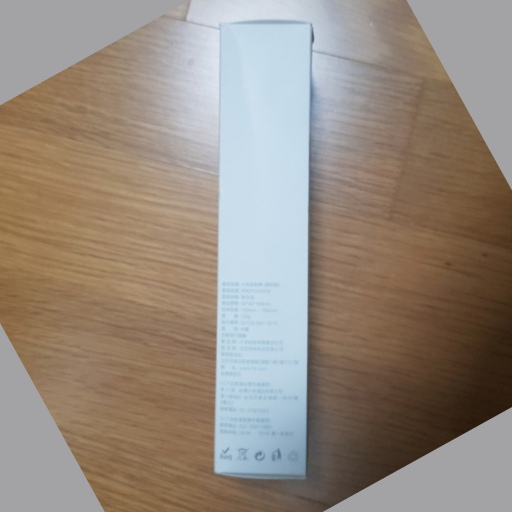Paper_0: (211, 16, 314, 480)
